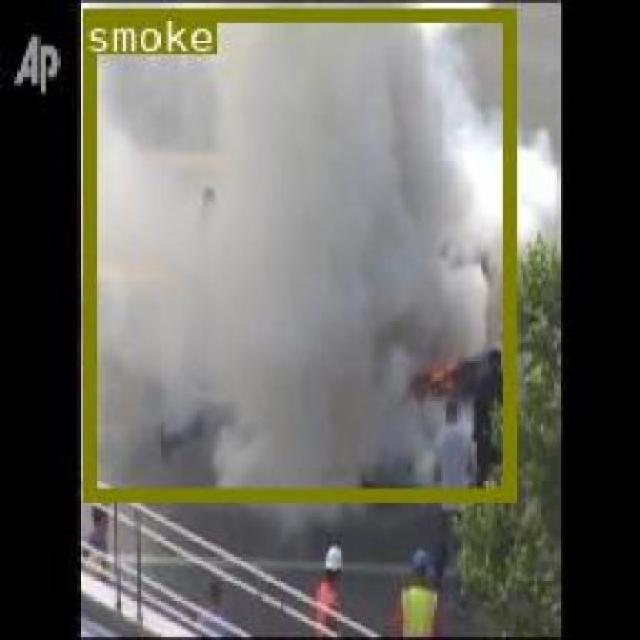Smoke: (82, 6, 513, 500)
